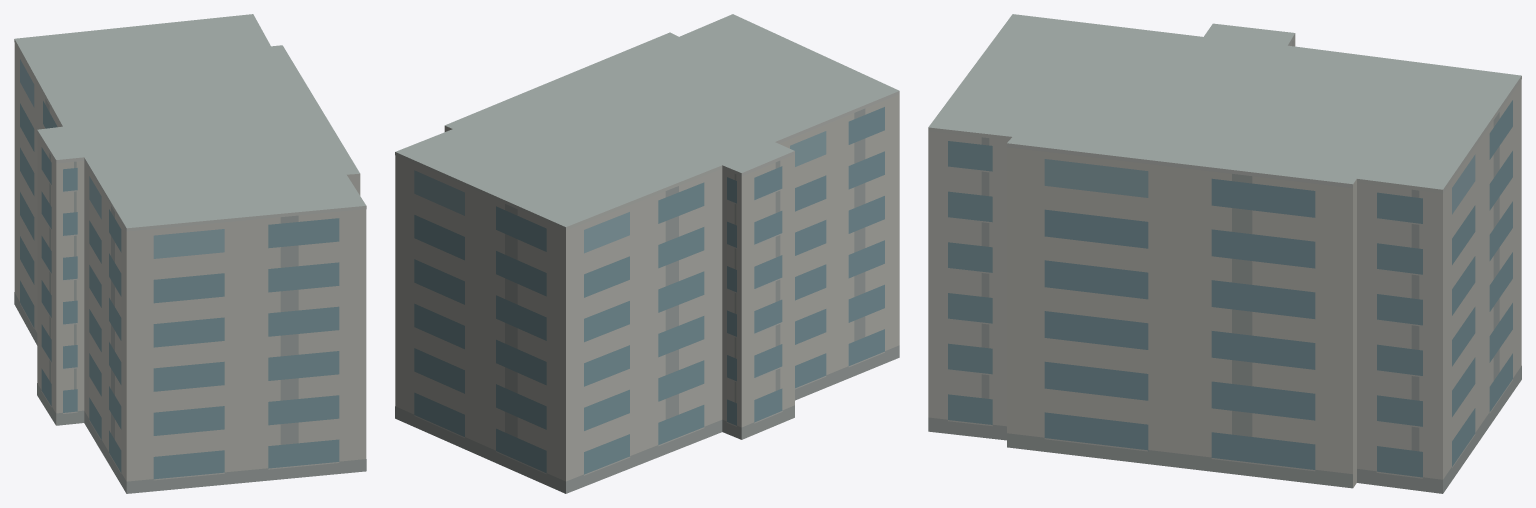
The model's file is survey-upis-32860480.glb.
3 views of the same model, side by side, from view 1: azimuth 30°, elevation 25°; view 2: azimuth 150°, elevation 25°; view 3: azimuth 270°, elevation 25° (orthographic). The views are drawn at different scales.
Parts seen in each view (by area): view 1: survey-upis-32860480.tmp; view 2: survey-upis-32860480.tmp; view 3: survey-upis-32860480.tmp.
Part boxes in pixels (x1,y1,x2,y2): survey-upis-32860480.tmp: (14,14,366,493); survey-upis-32860480.tmp: (395,14,899,493); survey-upis-32860480.tmp: (928,14,1521,493).
Bounding box in the file's own units: 23.59 × 19.03 × 33.66.
